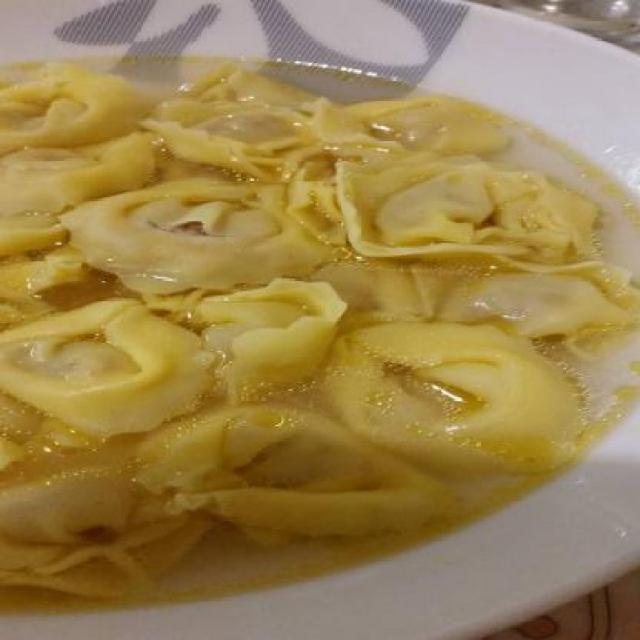Tortellini in broth: (8, 51, 590, 578)
